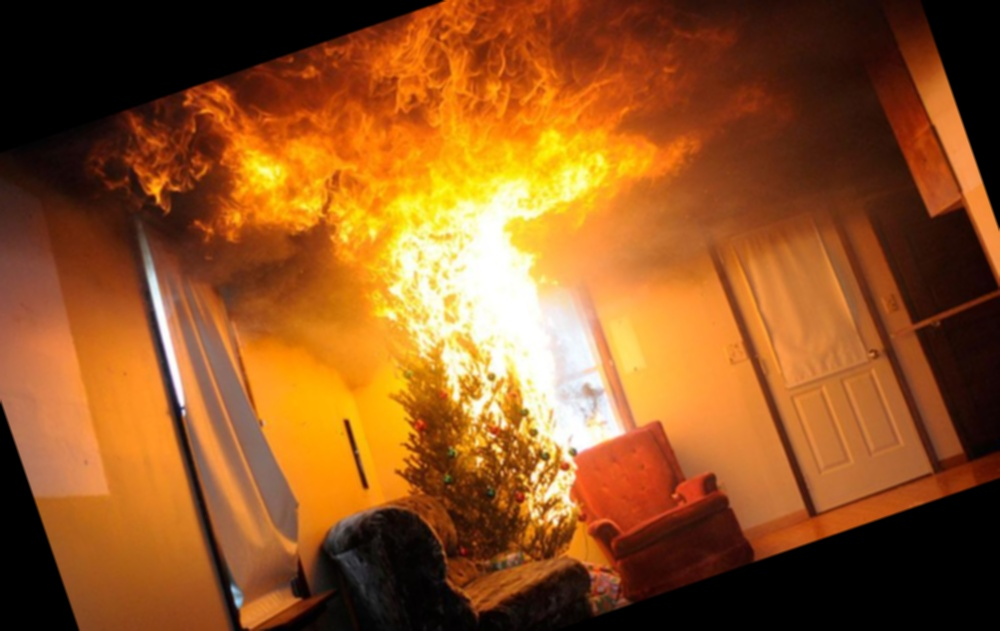fire: (101, 0, 891, 609)
